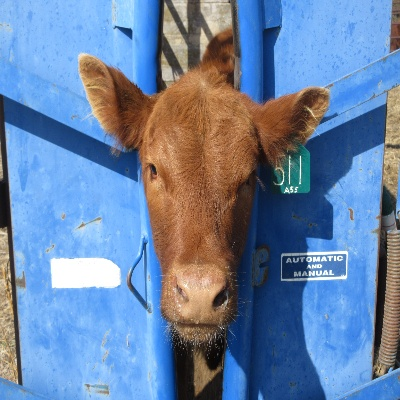fidget_spinner: (167, 263, 236, 331)
